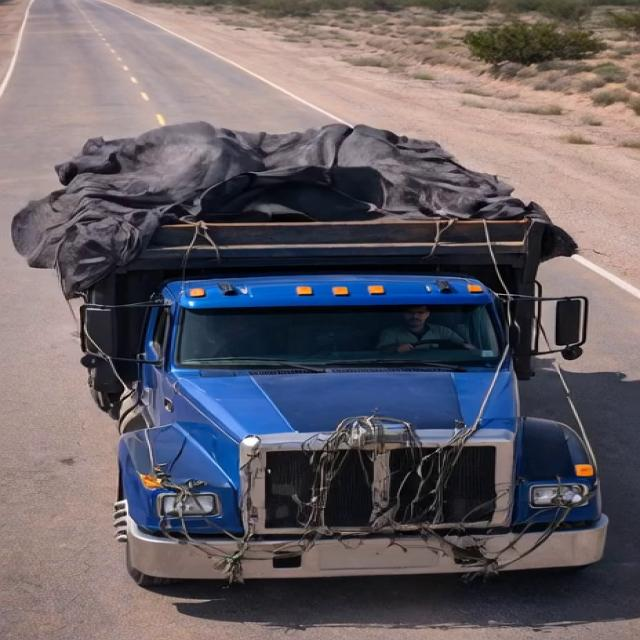trailer: (20, 107, 559, 275)
truck: (6, 80, 615, 580)
